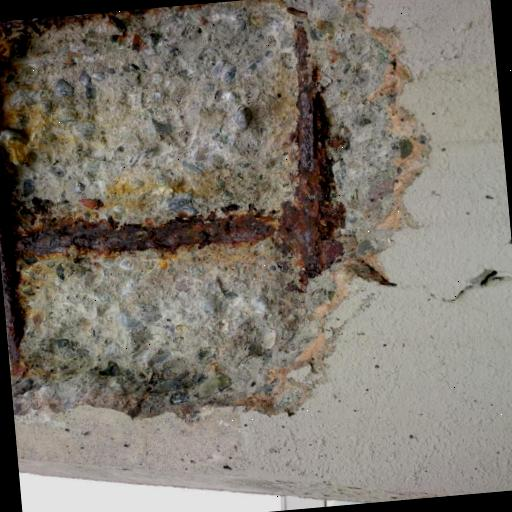spalling: (0, 0, 418, 408)
